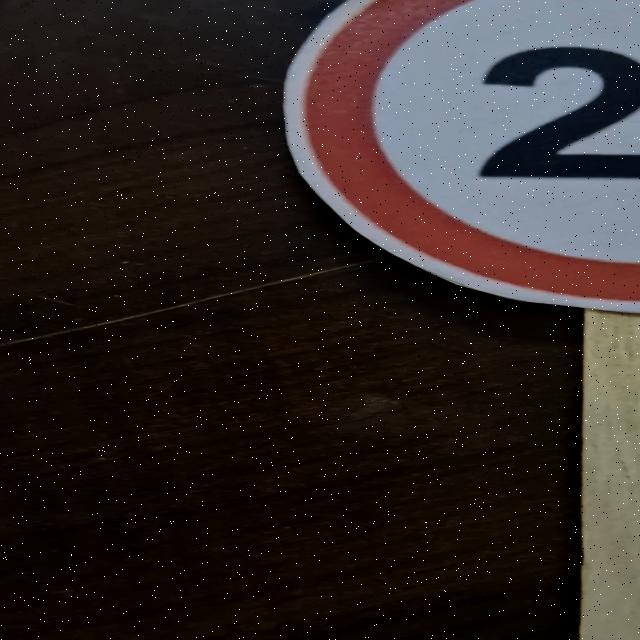Speed20: (273, 0, 639, 333)
